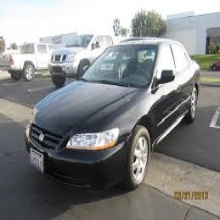no damage: (25, 36, 201, 190), (48, 33, 116, 87), (1, 42, 53, 82)
